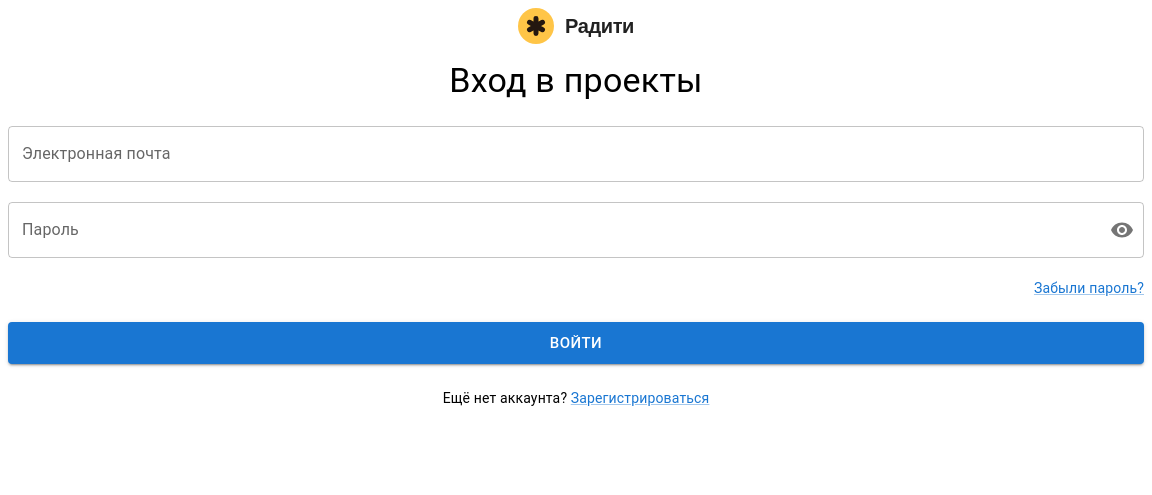
SignInForm › stays on the page when the password is wrong
This screenshot has width=1152, height=495.
Type "anna@example.ru" into the field labelled "Электронная почта" at (576, 154), box [8,126,1144,182]
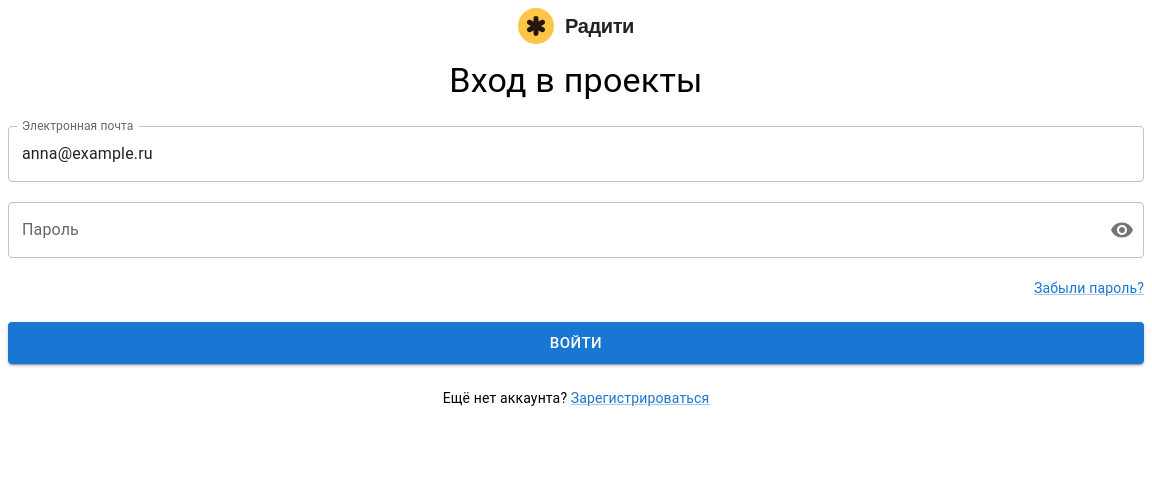
Type "secret-pass" into the password field labelled "Пароль" at (551, 230), box [8,202,1094,258]
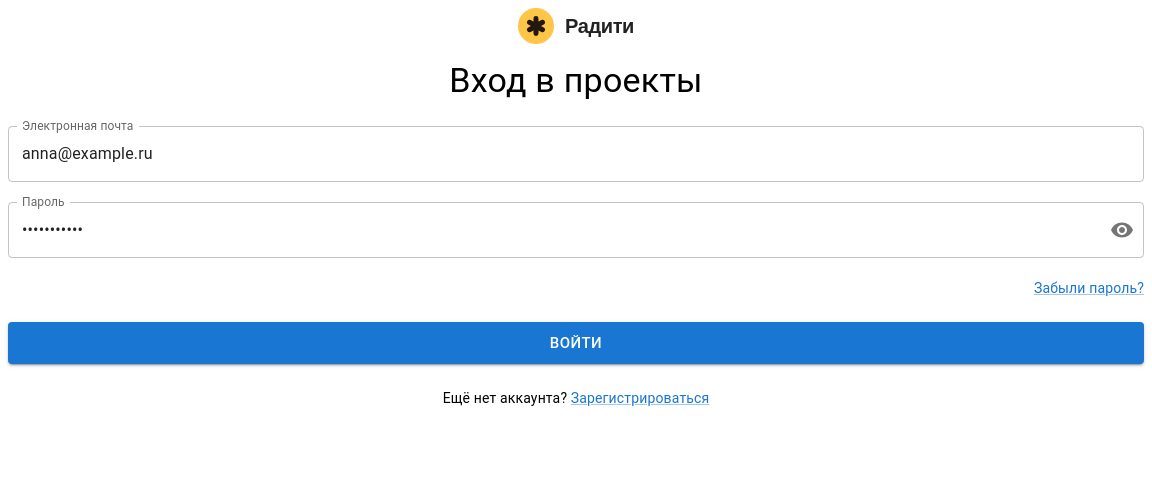
Click the button "Войти" at (576, 343), box [8,322,1144,364]
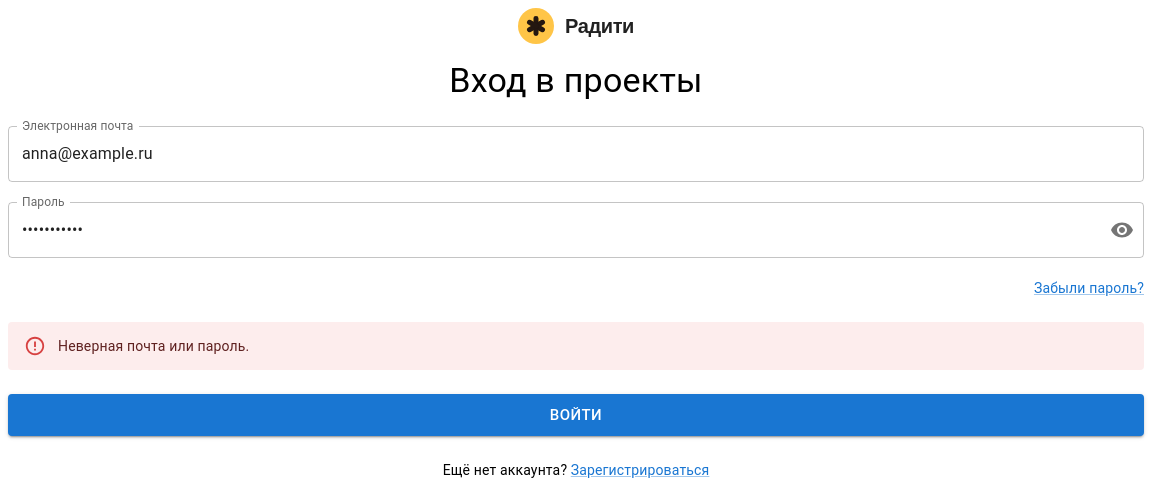
Result: the message "Неверная почта или пароль." is shown at [8,322,1144,370]
